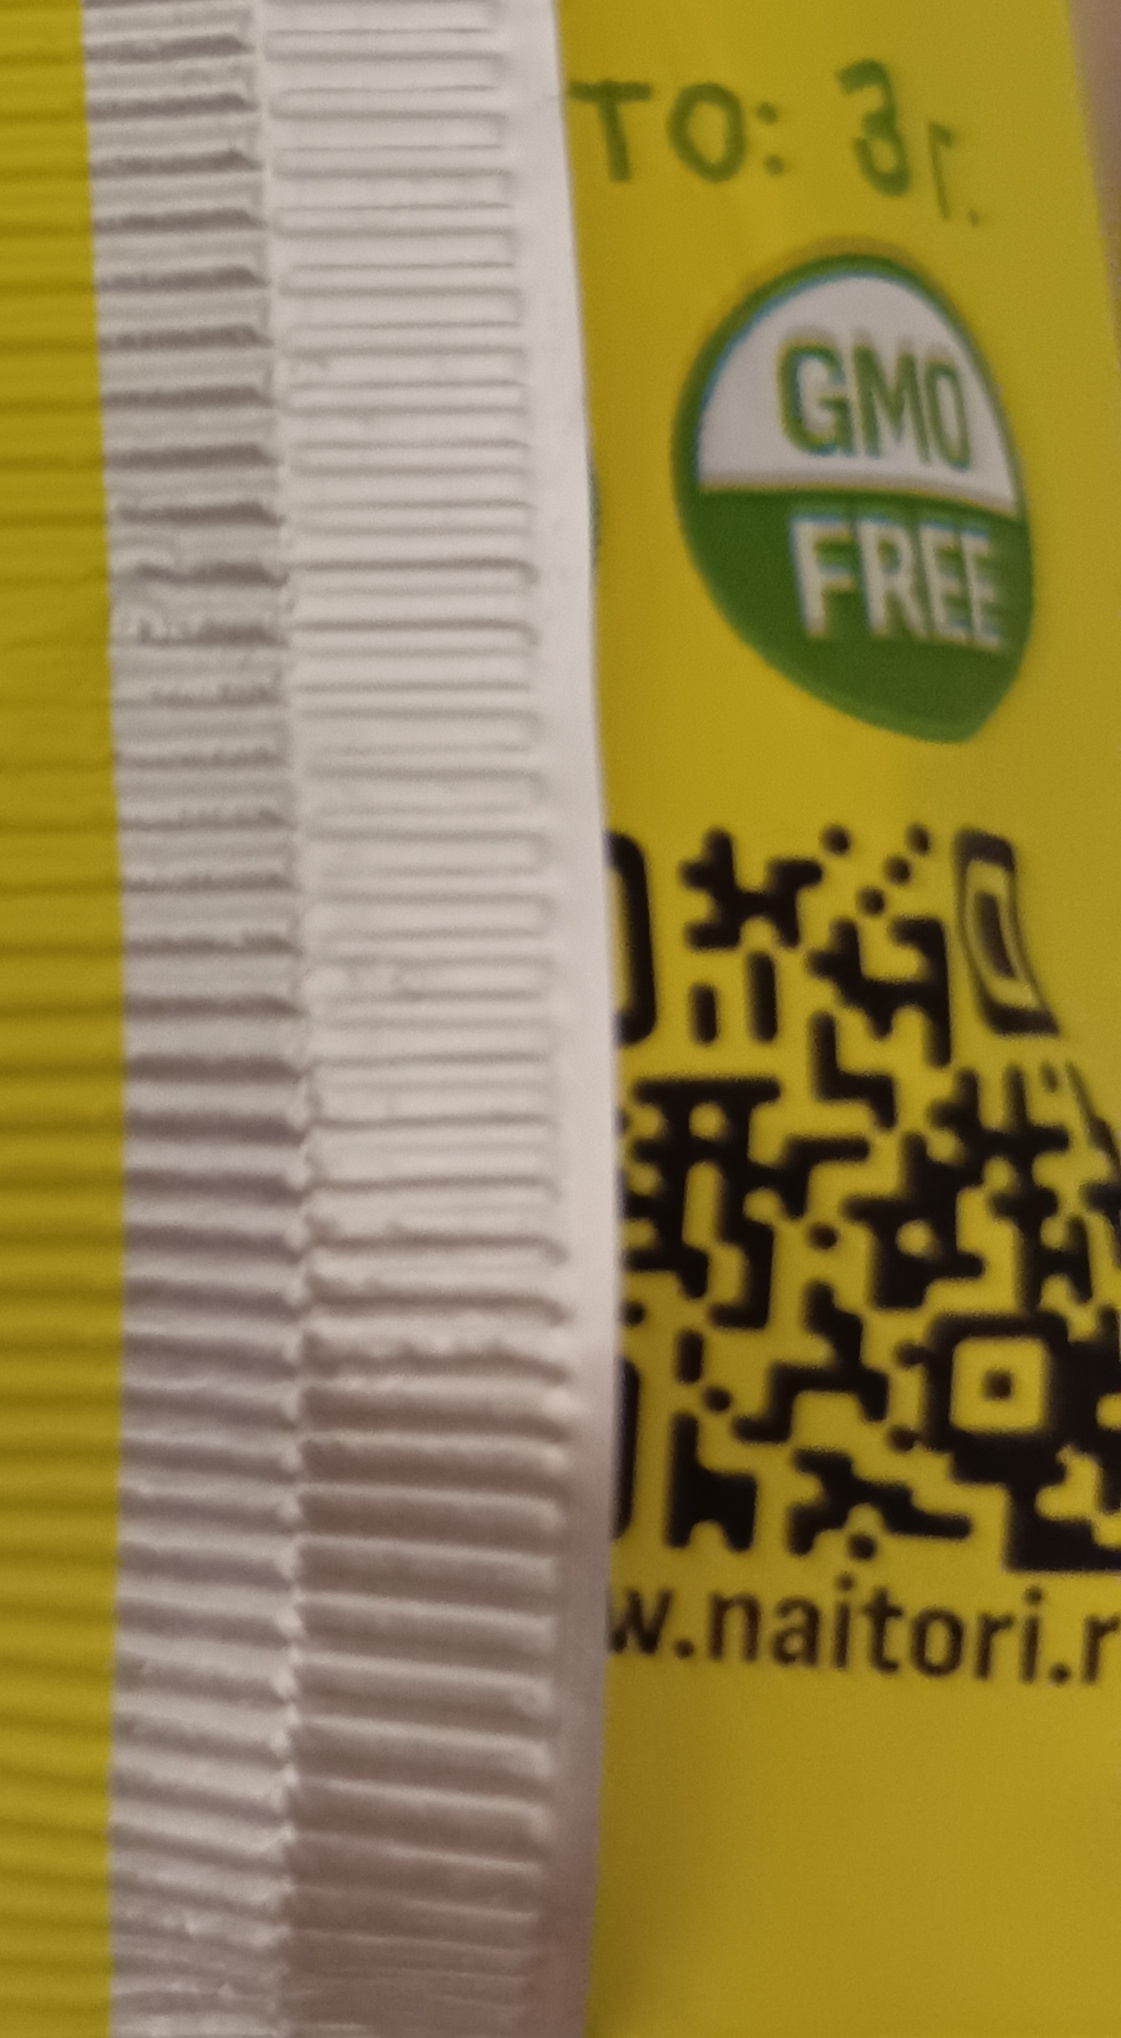2d: (596, 827, 1113, 1573)
